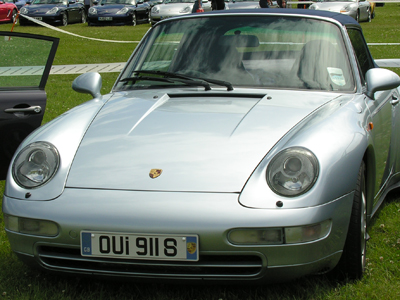licencePlate: (80, 230, 203, 264)
